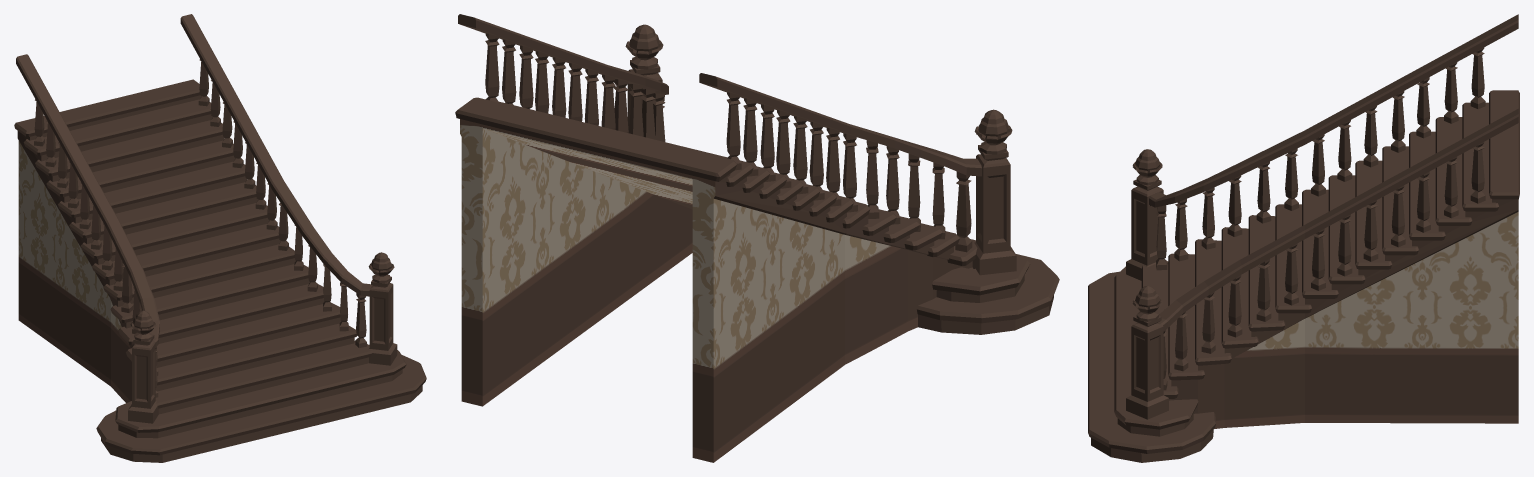
The model's file is BASE STAIR FENCES.fbx.
The picture shows the model from 3 angles, left to right: view 1: azimuth 30°, elevation 25°; view 2: azimuth 150°, elevation 25°; view 3: azimuth 270°, elevation 25°; orthographic projection. The views are drawn at different scales.
Parts seen in each view (by area): view 1: Base Stair Fences; view 2: Base Stair Fences; view 3: Base Stair Fences.
Part boxes in pixels (left/top/right/bottom): Base Stair Fences: left=14, top=14, right=426, bottom=462; Base Stair Fences: left=455, top=14, right=1059, bottom=462; Base Stair Fences: left=1088, top=14, right=1519, bottom=462.
Bounding box in the file's own units: 501 × 400 × 505.
